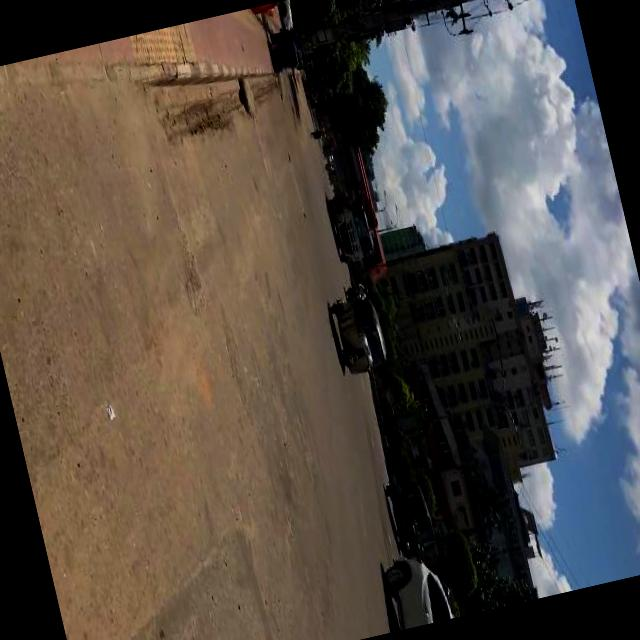car: (379, 551, 456, 631)
motorcycle: (326, 294, 392, 382), (382, 475, 440, 562), (342, 282, 372, 304), (322, 146, 332, 160)
truck: (324, 184, 387, 270)
